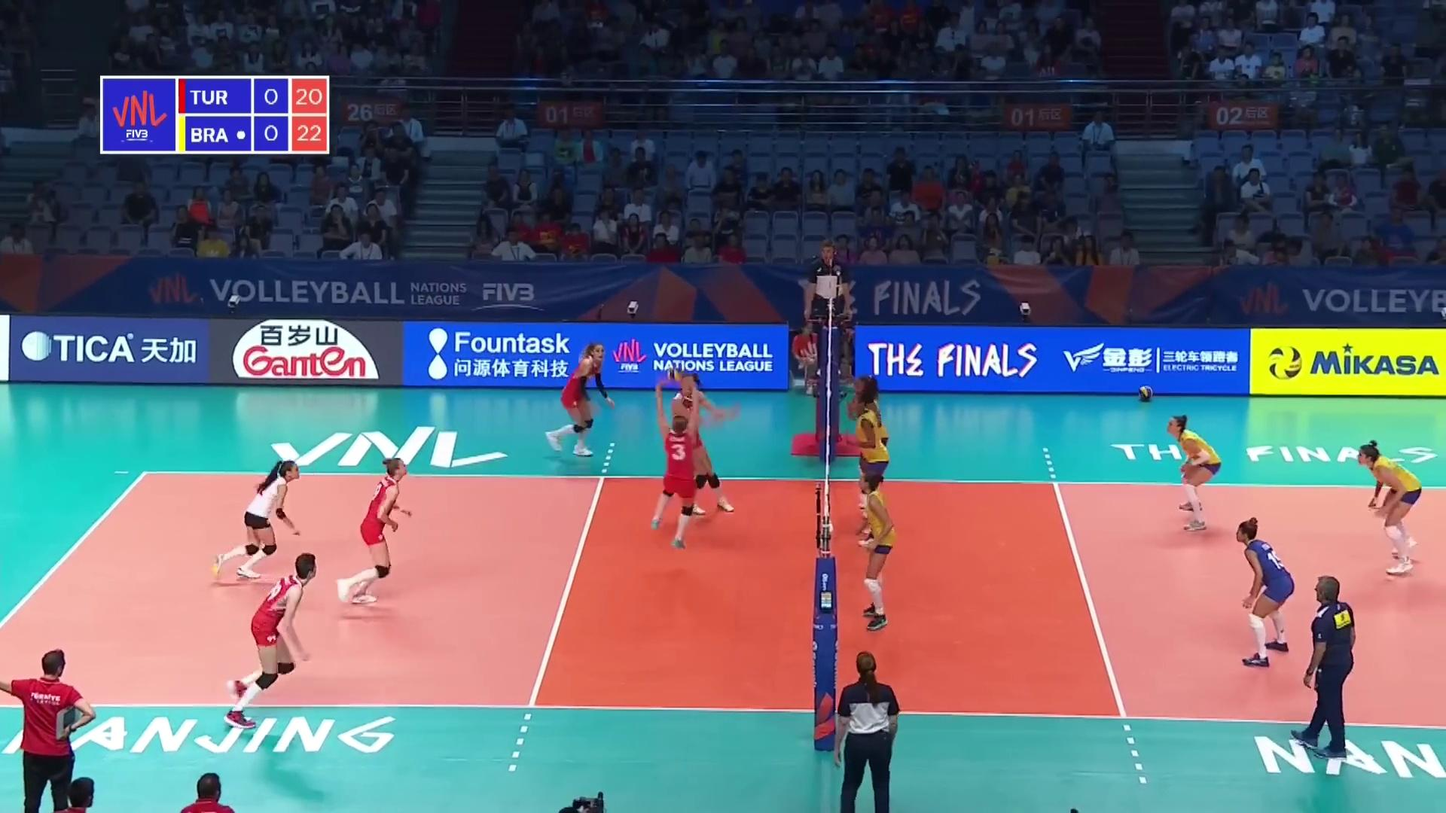player: (227, 555, 313, 717), (340, 456, 411, 610), (218, 461, 300, 586), (1352, 443, 1423, 575), (652, 380, 706, 552), (666, 374, 732, 514), (1232, 521, 1295, 664), (1158, 417, 1225, 531), (856, 471, 897, 629), (850, 395, 892, 549), (549, 344, 605, 456), (852, 377, 890, 526)
refree: (835, 655, 901, 809), (807, 245, 846, 375)
